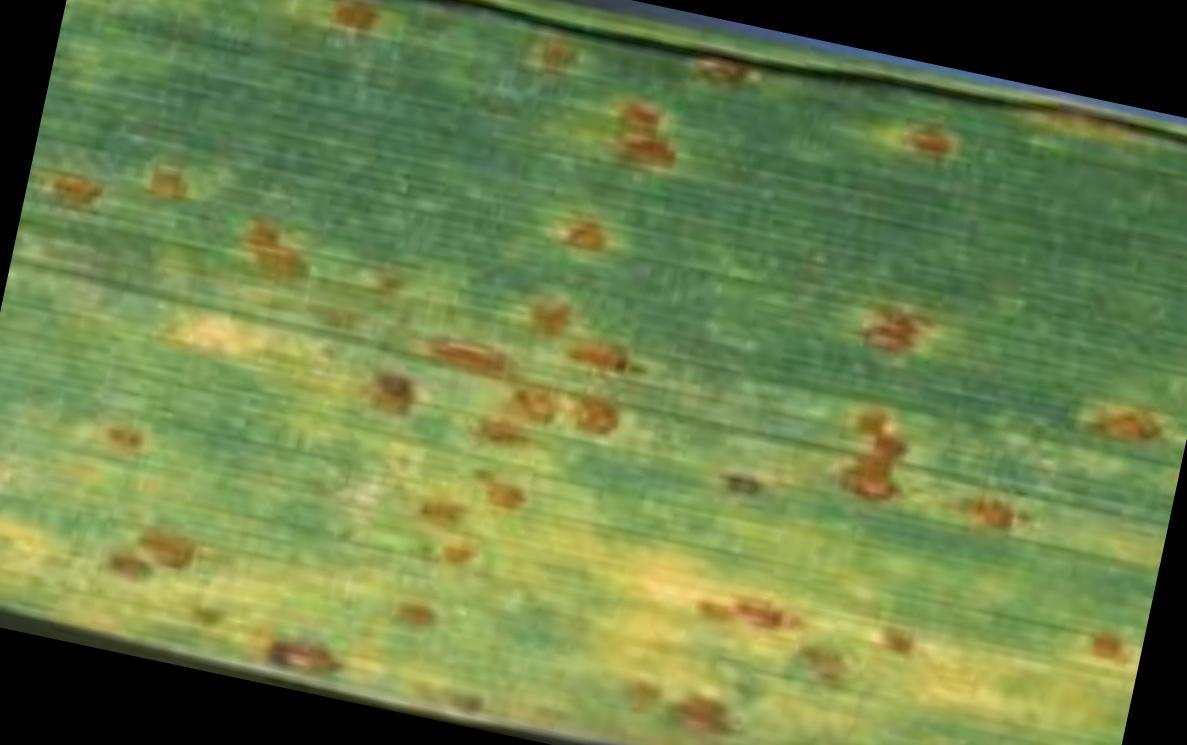Wheat: (231, 192, 678, 586), (829, 250, 1066, 568), (528, 40, 965, 182), (607, 596, 914, 736), (71, 420, 199, 602)
